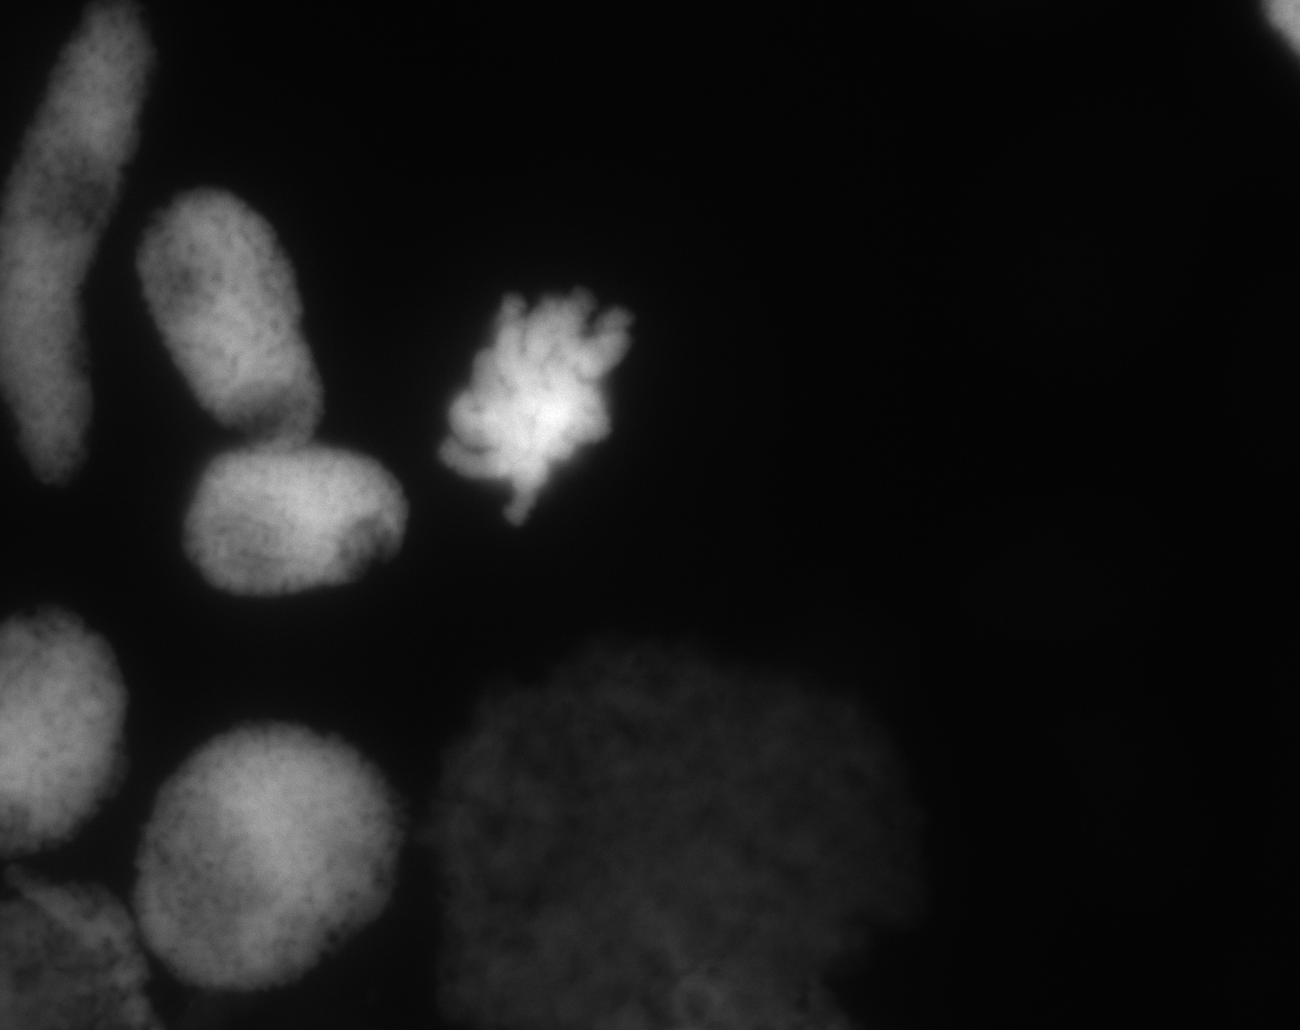Chromosomes: (375, 235, 695, 565)
Others: (401, 587, 969, 1030), (118, 686, 423, 1019), (115, 138, 336, 464), (164, 430, 421, 614), (6, 577, 170, 832)
